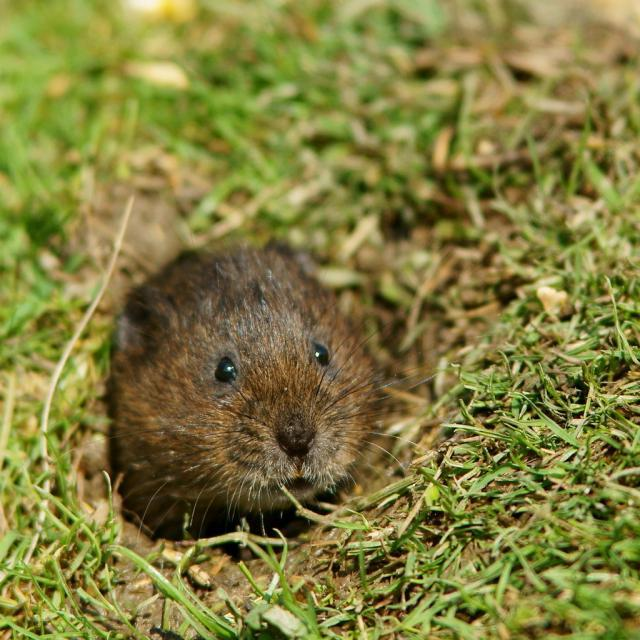rat: (88, 245, 440, 544)
